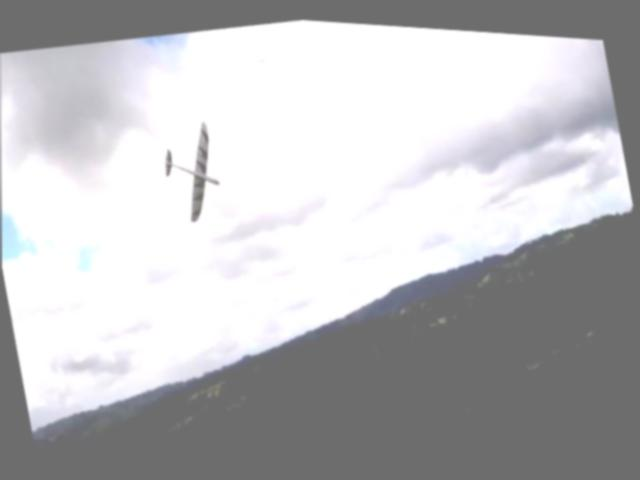iha: (152, 110, 236, 227)
